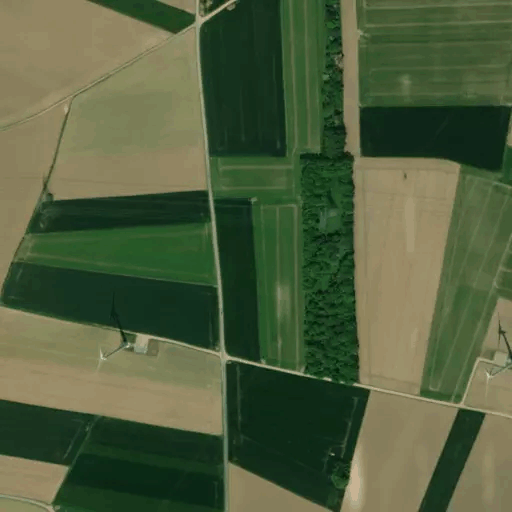wt: (471, 304, 512, 404), (92, 284, 135, 378)
